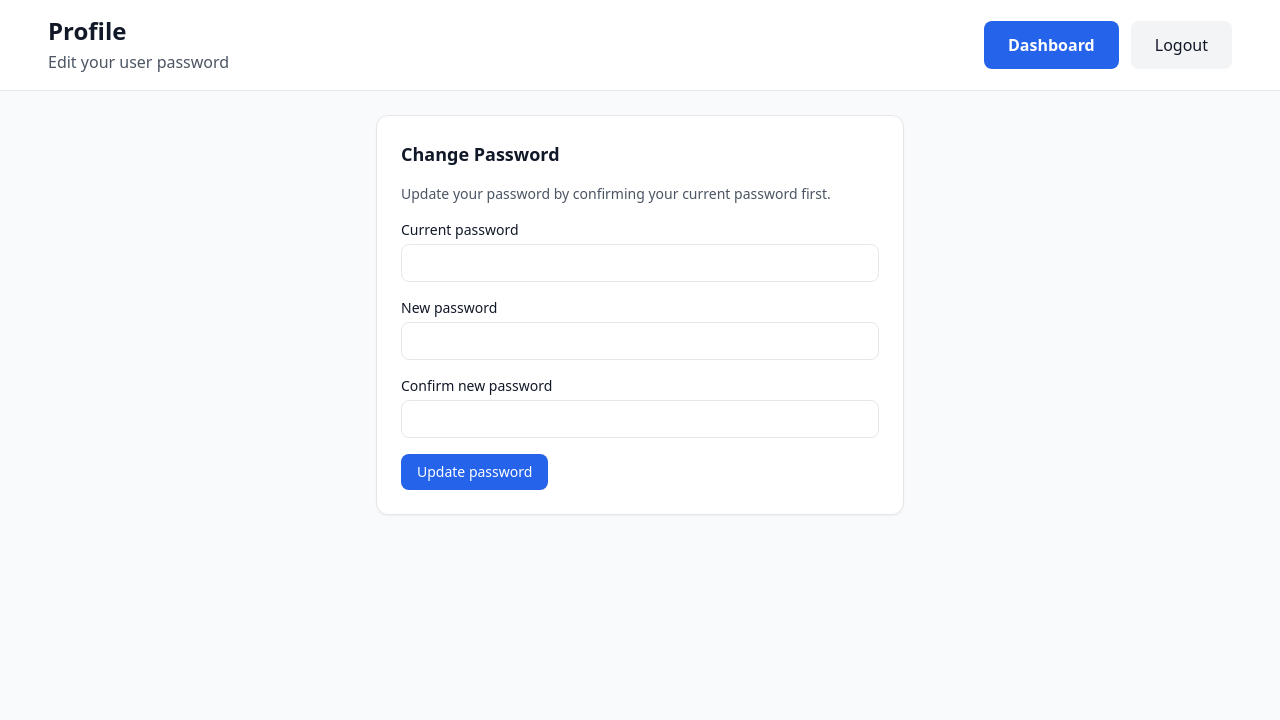
it: ProfilePage › shows a validation error when the new password is too short
Expected: the heading "Profile" is shown, [48,14,126,47]
In the 1st password field: (640, 263) [401,244,879,282], type "oldpass"
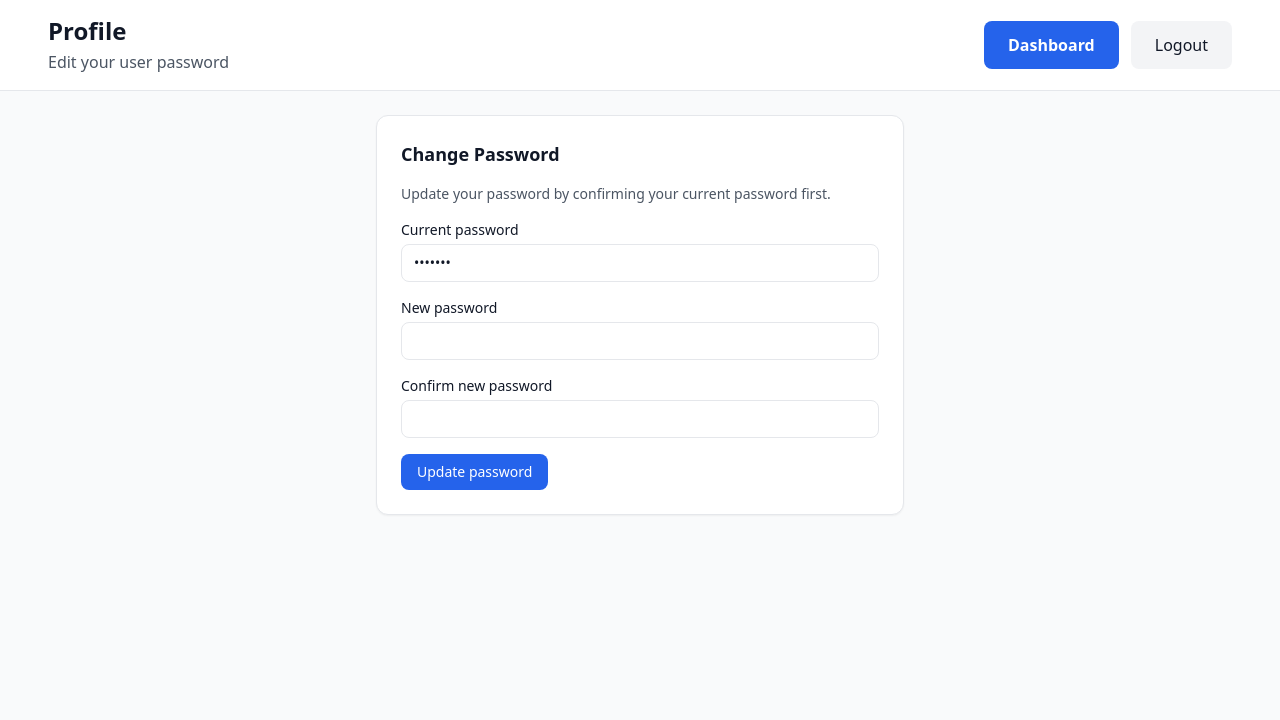
In the 2nd password field: (640, 341) [401,322,879,360], type "abc"
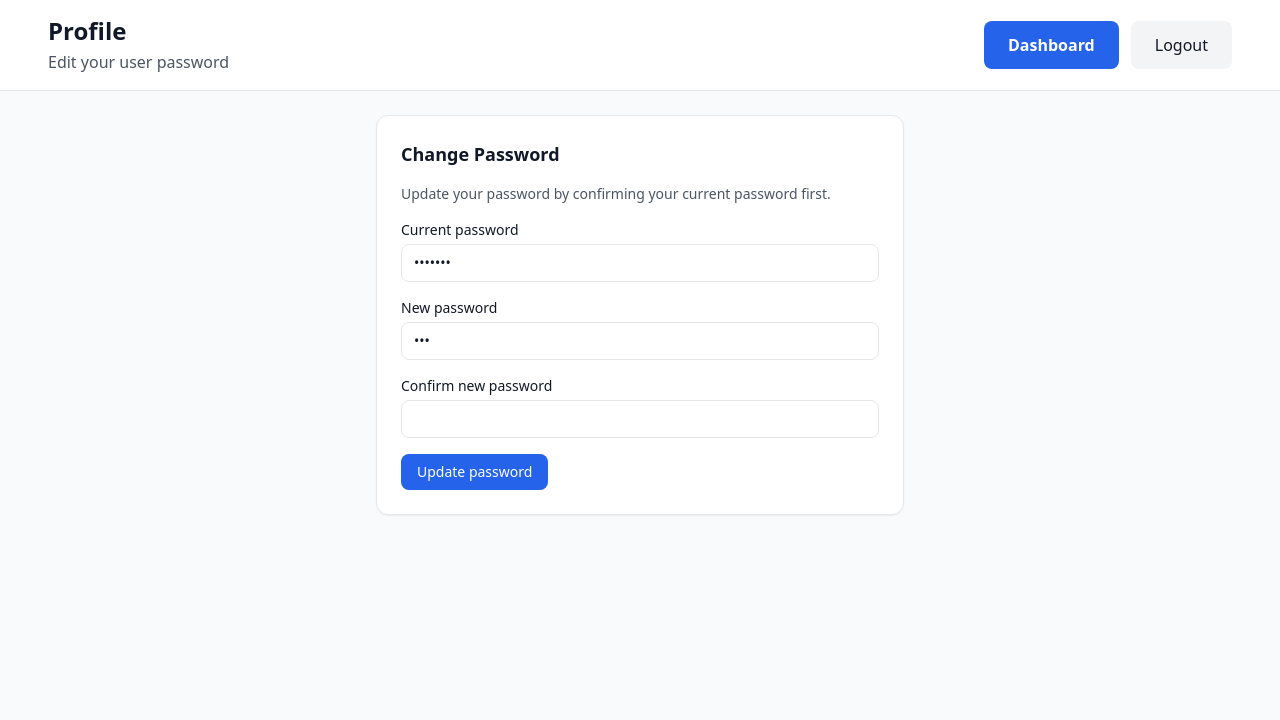
In the password field below "Confirm new password": (640, 419) [401,400,879,438], type "abc"
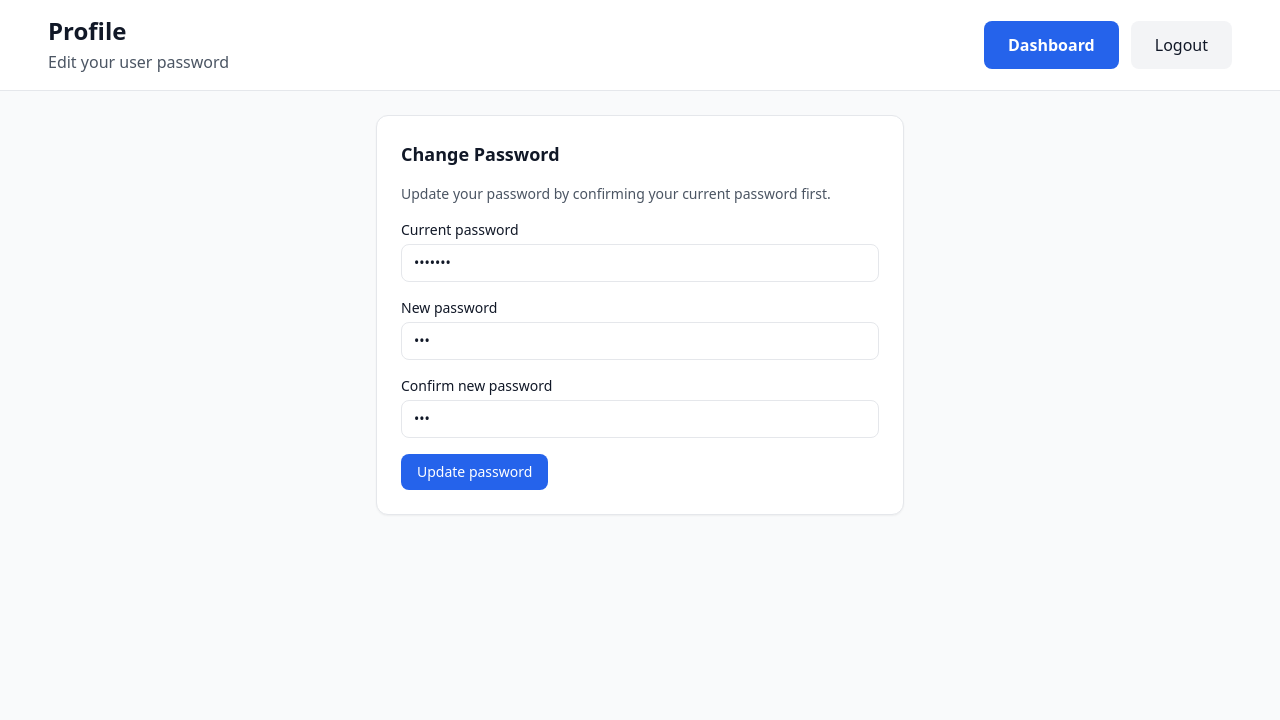
Submit the form, box [401,220,879,490]
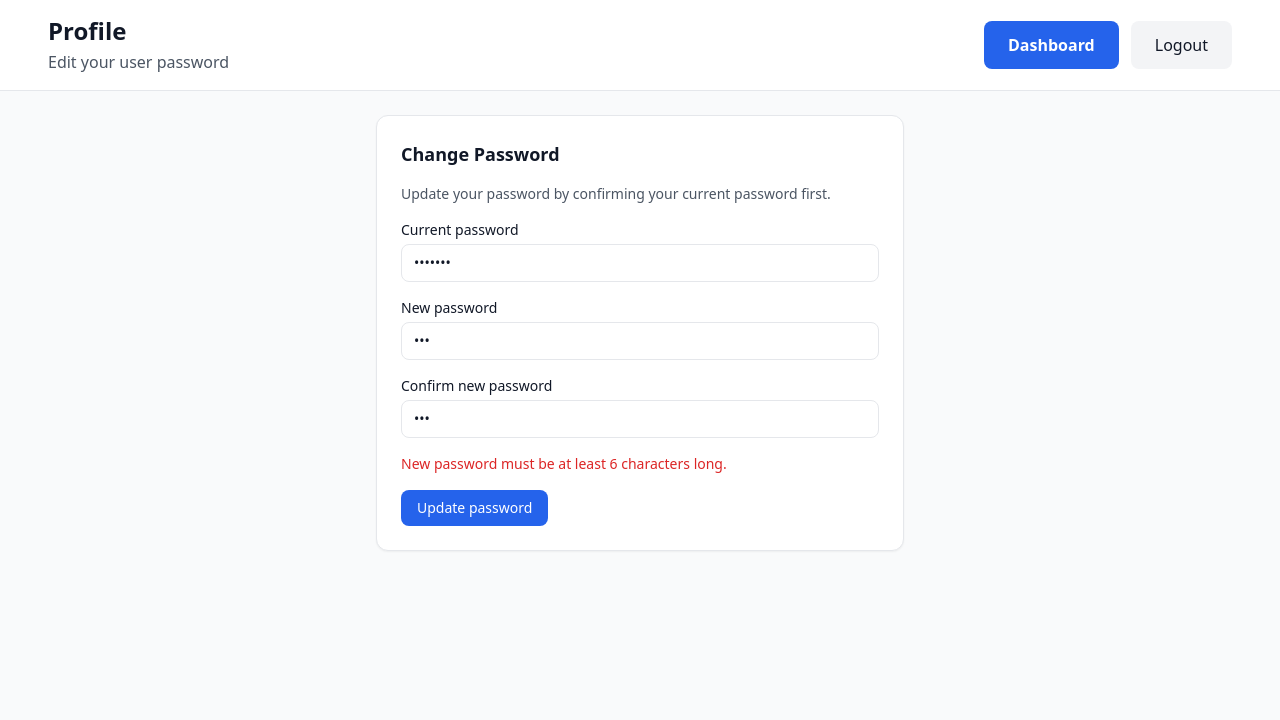
Expected: the message reads "New password must be at least 6 characters long.", [401,454,727,473]
